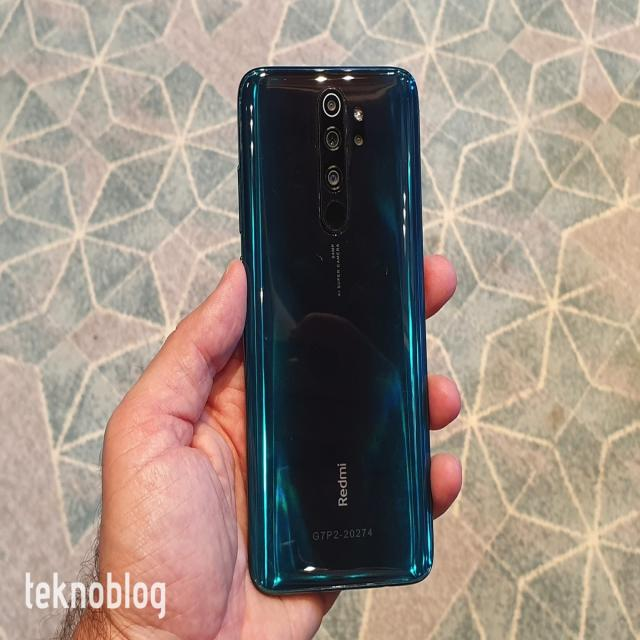Red Mi Note 8 Pro: (235, 65, 436, 600)
